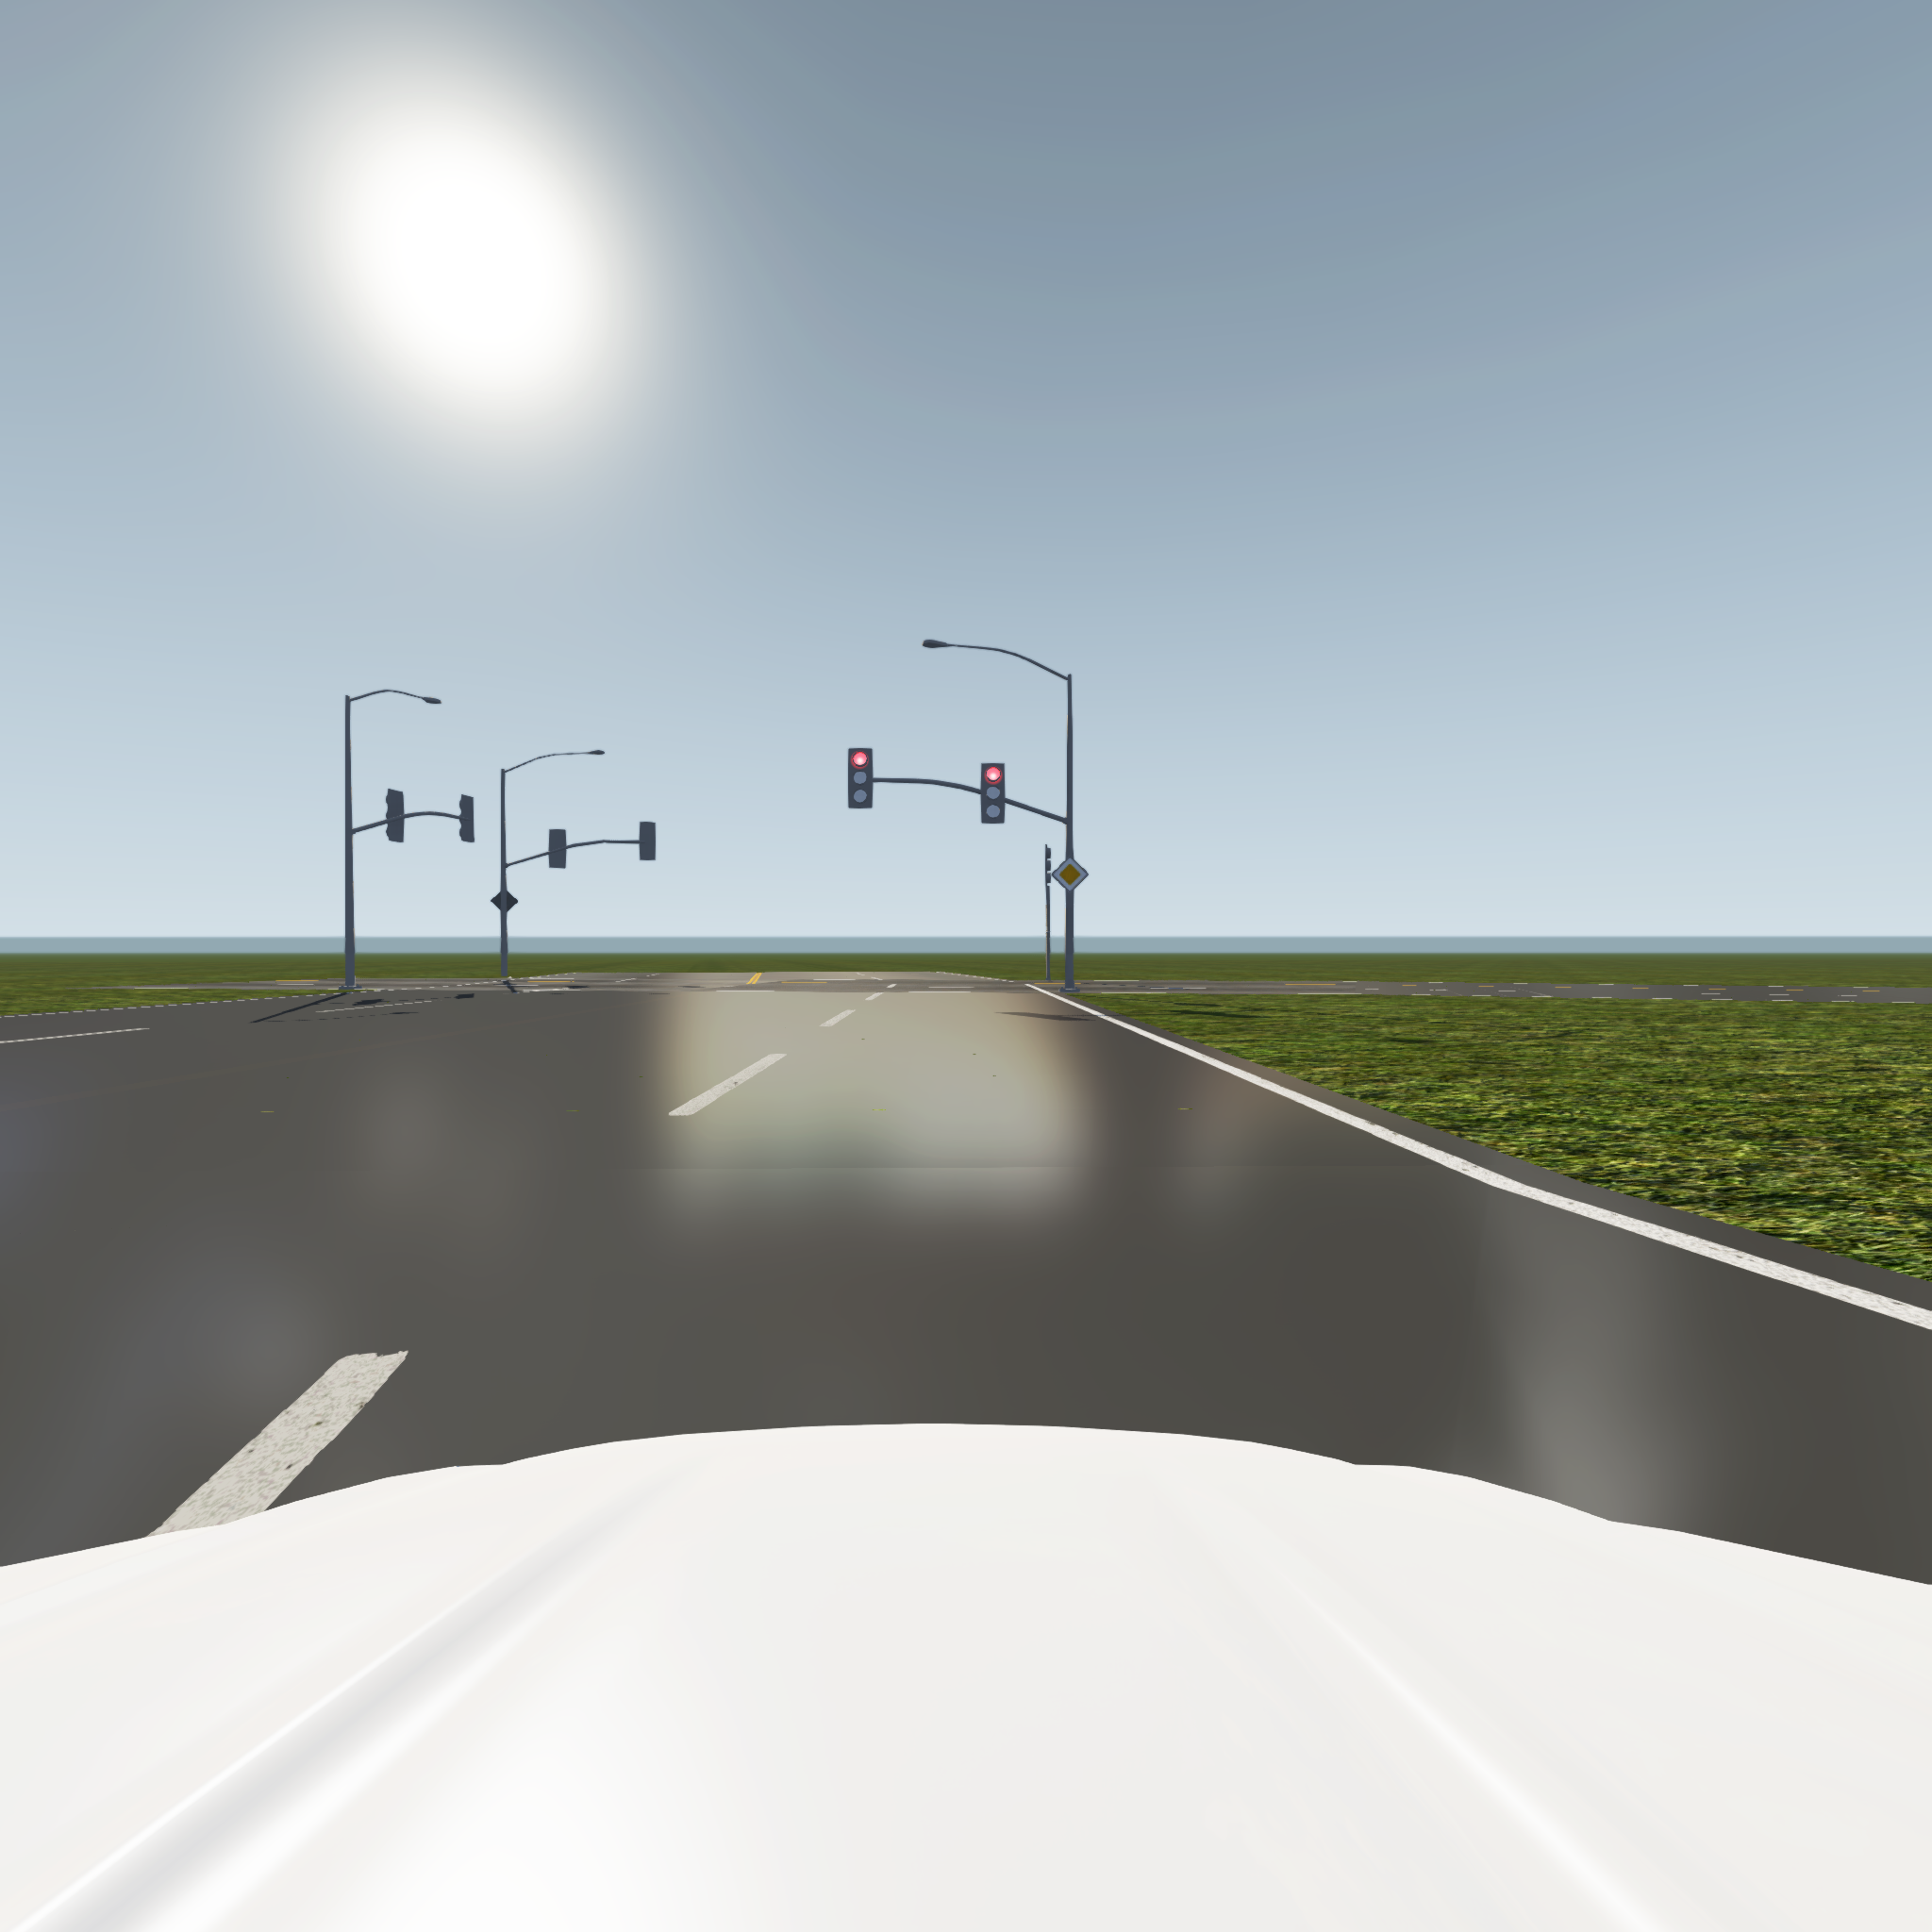red: (847, 748, 872, 809), (982, 764, 1003, 823)
